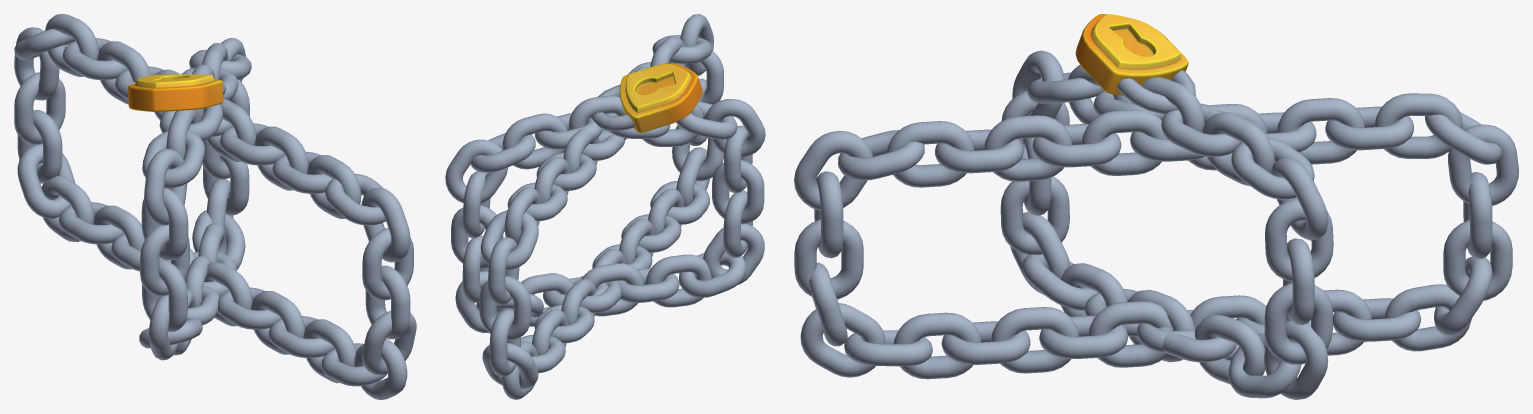
The model's file is Chain_Block_07.fbx.
3 renders of one model, left to right at view 1: azimuth 30°, elevation 25°; view 2: azimuth 150°, elevation 25°; view 3: azimuth 270°, elevation 25°, orthographic. The views are drawn at different scales.
Visible parts, largest first — view 1: Chain; view 2: Chain; view 3: Chain.
Part boxes in pixels (left/top/right/bottom): Chain: left=14, top=14, right=416, bottom=399; Chain: left=445, top=14, right=765, bottom=399; Chain: left=794, top=14, right=1518, bottom=399.
Bounding box in the file's own units: 1.46 × 1.64 × 3.48.
Materials: 1 (1 with a texture image).
